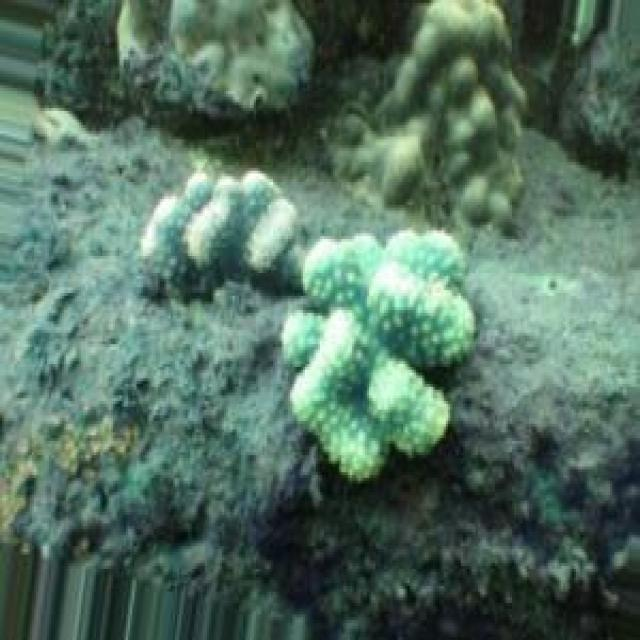Bleached: (285, 231, 479, 487), (353, 1, 528, 246), (114, 1, 317, 123), (142, 175, 302, 300)
